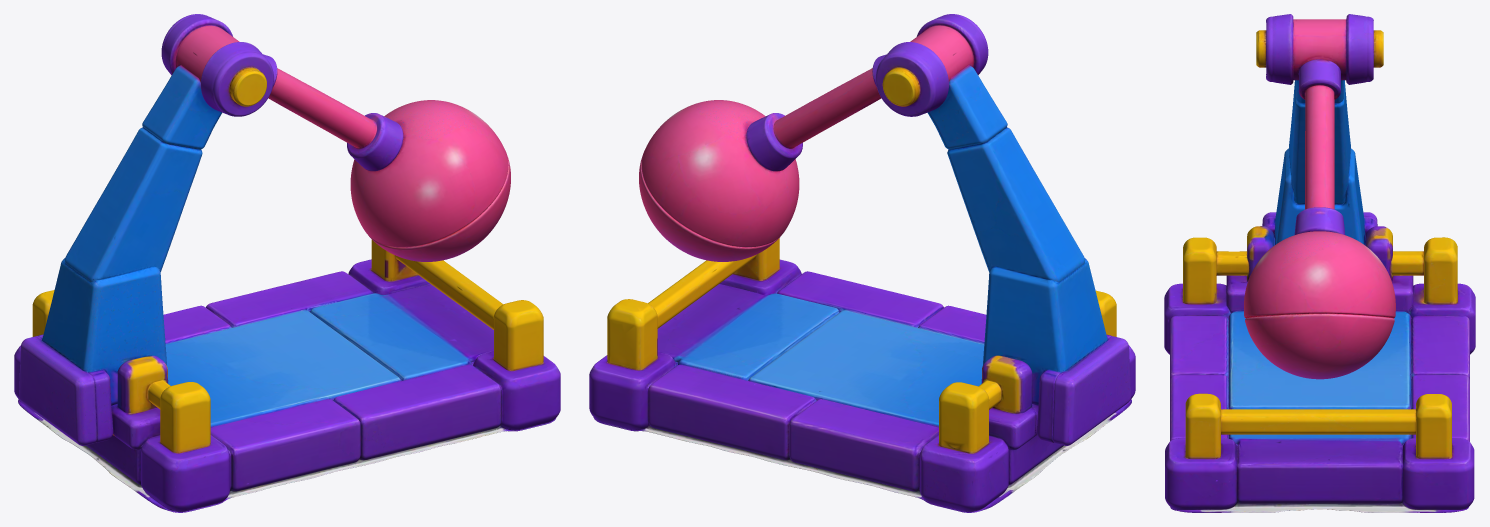
The model's file is model-03-swing-hammer.glb.
3 renders of one model, left to right at view 1: azimuth 30°, elevation 25°; view 2: azimuth 150°, elevation 25°; view 3: azimuth 270°, elevation 25°, orthographic. The views are drawn at different scales.
Visible parts, largest first — view 1: node_0; view 2: node_0; view 3: node_0.
Boxes of the visible parts, x1,y1,x2,y2 form: node_0: [14, 14, 560, 512]; node_0: [589, 14, 1135, 512]; node_0: [1164, 14, 1475, 512].
Size of the model in its own units: 0.8754 by 0.7351 by 0.5549.
1 material, 1 textured.
